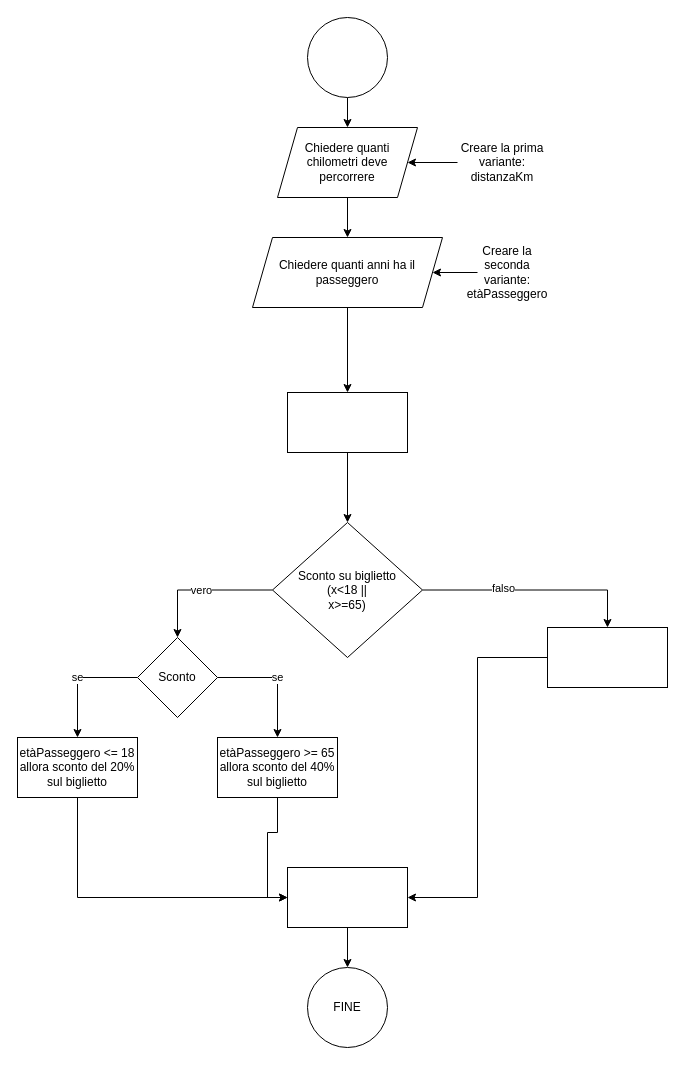
The diagram is 685 pixels wide and 1065 high, and some of its shapes have lost their labels. Each missing label, with the centre of its shape:
"calcolare il prezzo intero del biglietto km * 0.21€" belongs at point 347,422.
"INIZIO" belongs at point 347,57.
"Output prezzo (max 2 decimali)" belongs at point 347,897.
"Prezzo intero" belongs at point 607,657.
